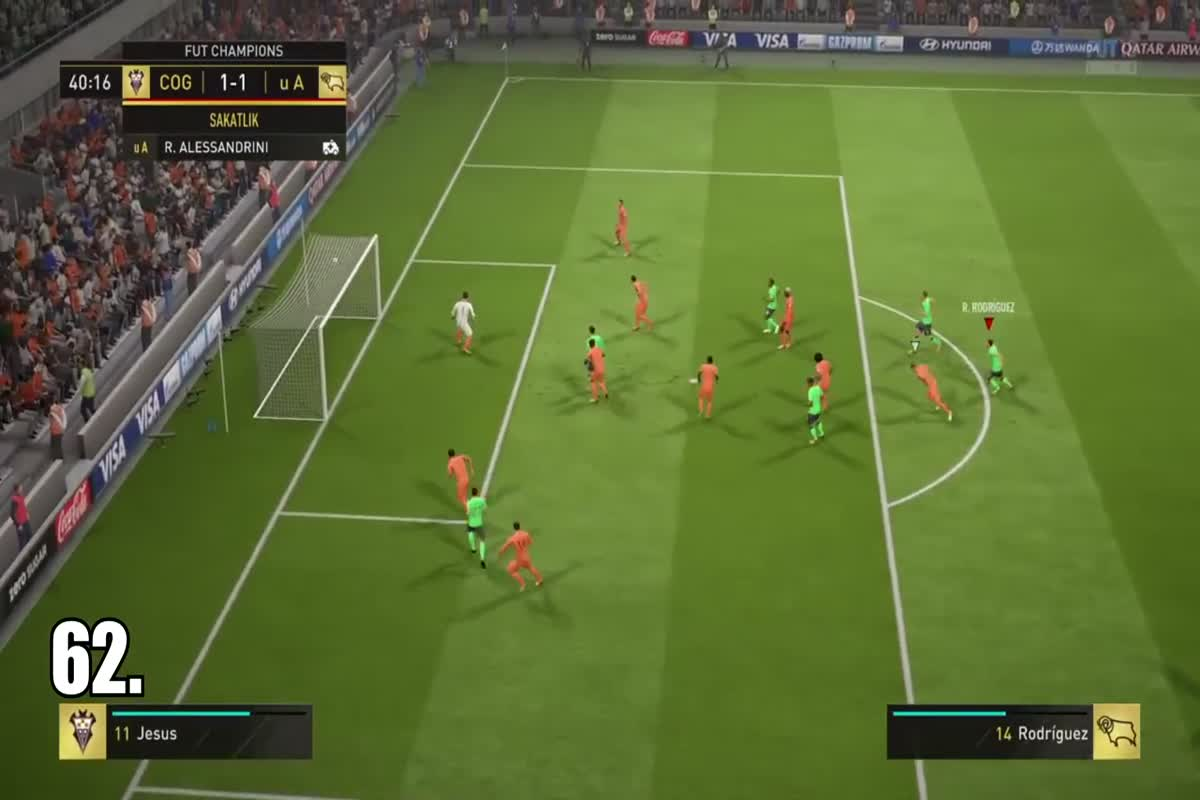ball: (327, 251, 348, 269)
